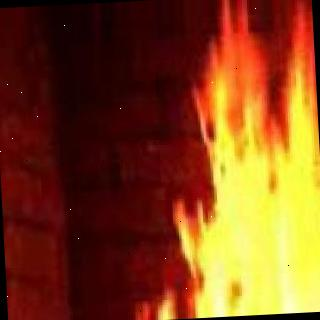fire: (158, 53, 320, 319)
